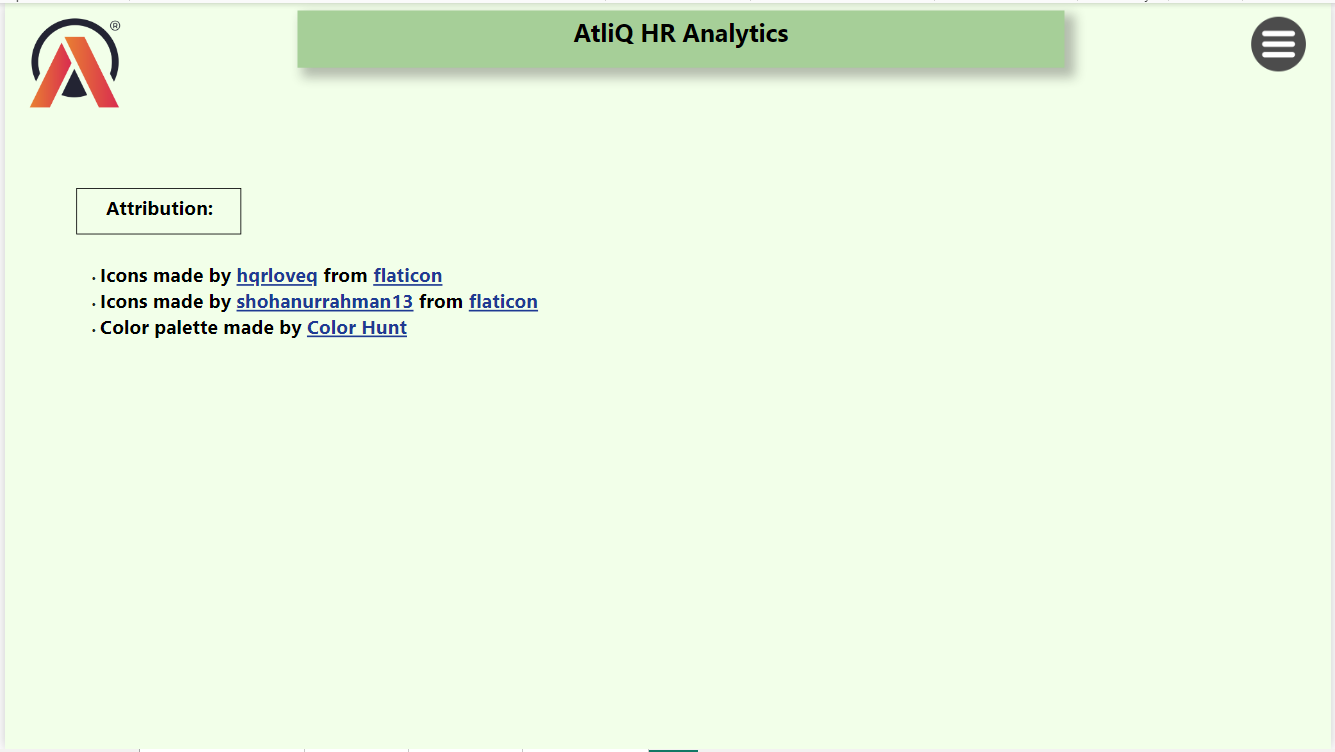

Layout of this report page (visuals, bound fields, positions):
{"tool":"powerbi","page":{"name":"Attribution","canvas":[1280,720],"ordinal":3},"visuals":[{"type":"textbox","box":[282,7,740,55],"z":0},{"type":"image","box":[18.6,7.1,100,100],"z":1000},{"type":"image","box":[1190,8.6,77.1,62.9],"z":2000},{"type":"textbox","box":[68.3,244.5,499,115.4],"z":4000},{"type":"textbox","box":[68.7,178.5,159.2,44.6],"z":5000}]}

Visuals, with their boxes in screenshot pixels (x1, y1, x2, y2), scaled from the page's 1280x720 canvas onto the 1335x752 screenshot:
textbox: pyautogui.locateOnScreen(294, 7, 1066, 65)
image: pyautogui.locateOnScreen(19, 7, 124, 112)
image: pyautogui.locateOnScreen(1241, 9, 1322, 75)
textbox: pyautogui.locateOnScreen(71, 255, 592, 376)
textbox: pyautogui.locateOnScreen(72, 186, 238, 233)
